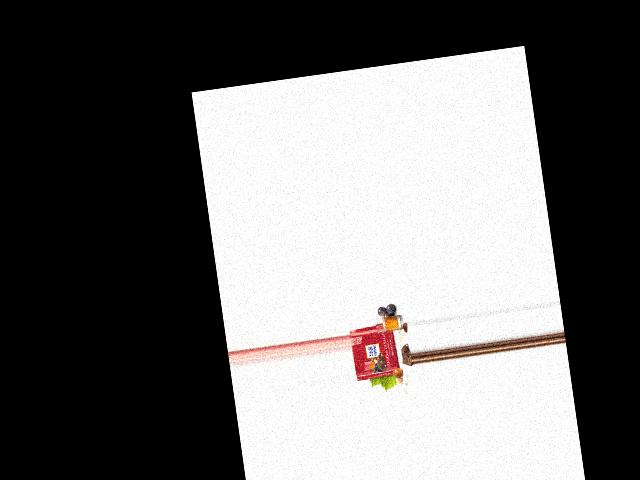chocolate: (350, 324, 400, 382)
